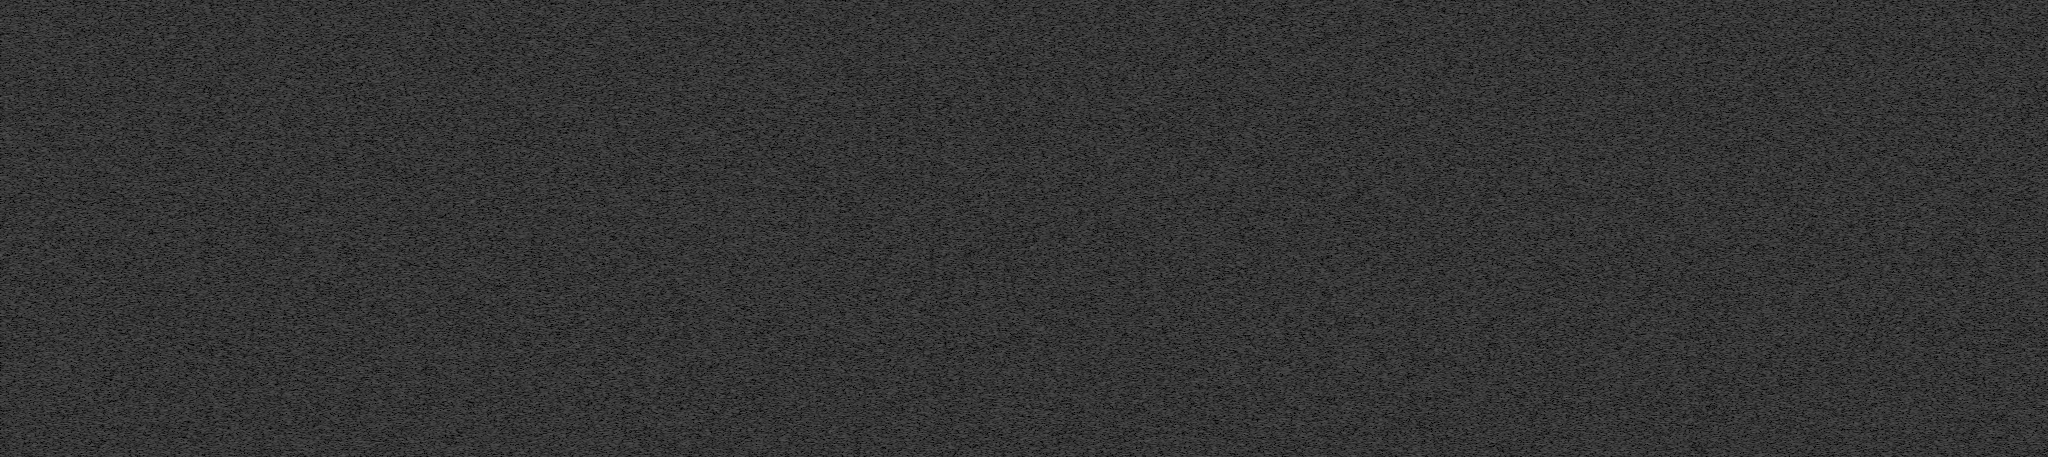wv_cw: (372, 0, 377, 457)
wv_lsb: (1738, 4, 1744, 373), (1738, 377, 1744, 457)
wv_usb: (943, 3, 950, 393), (943, 400, 950, 457)
